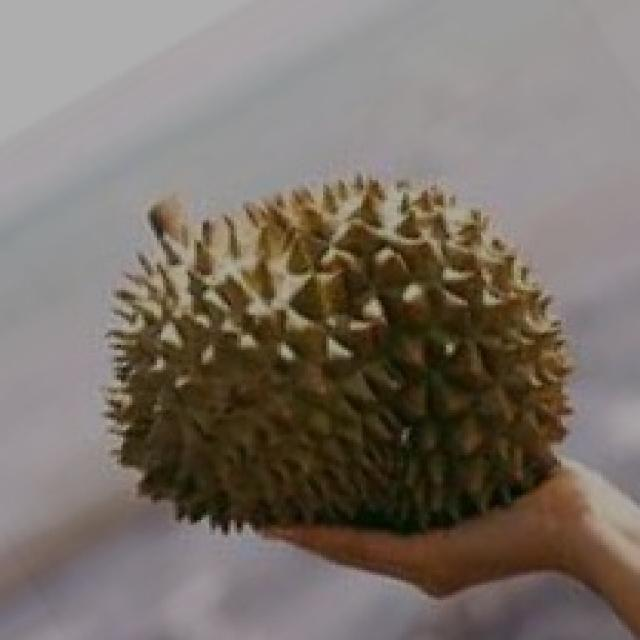fruit: (264, 162, 630, 578), (61, 180, 422, 588)
